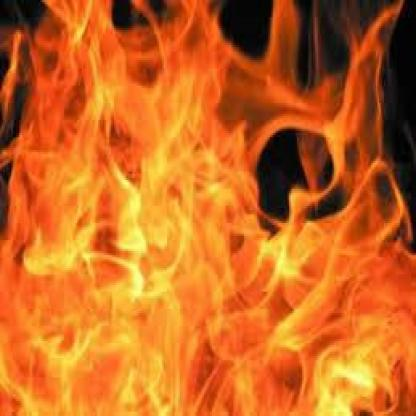fire: (0, 0, 413, 410)
